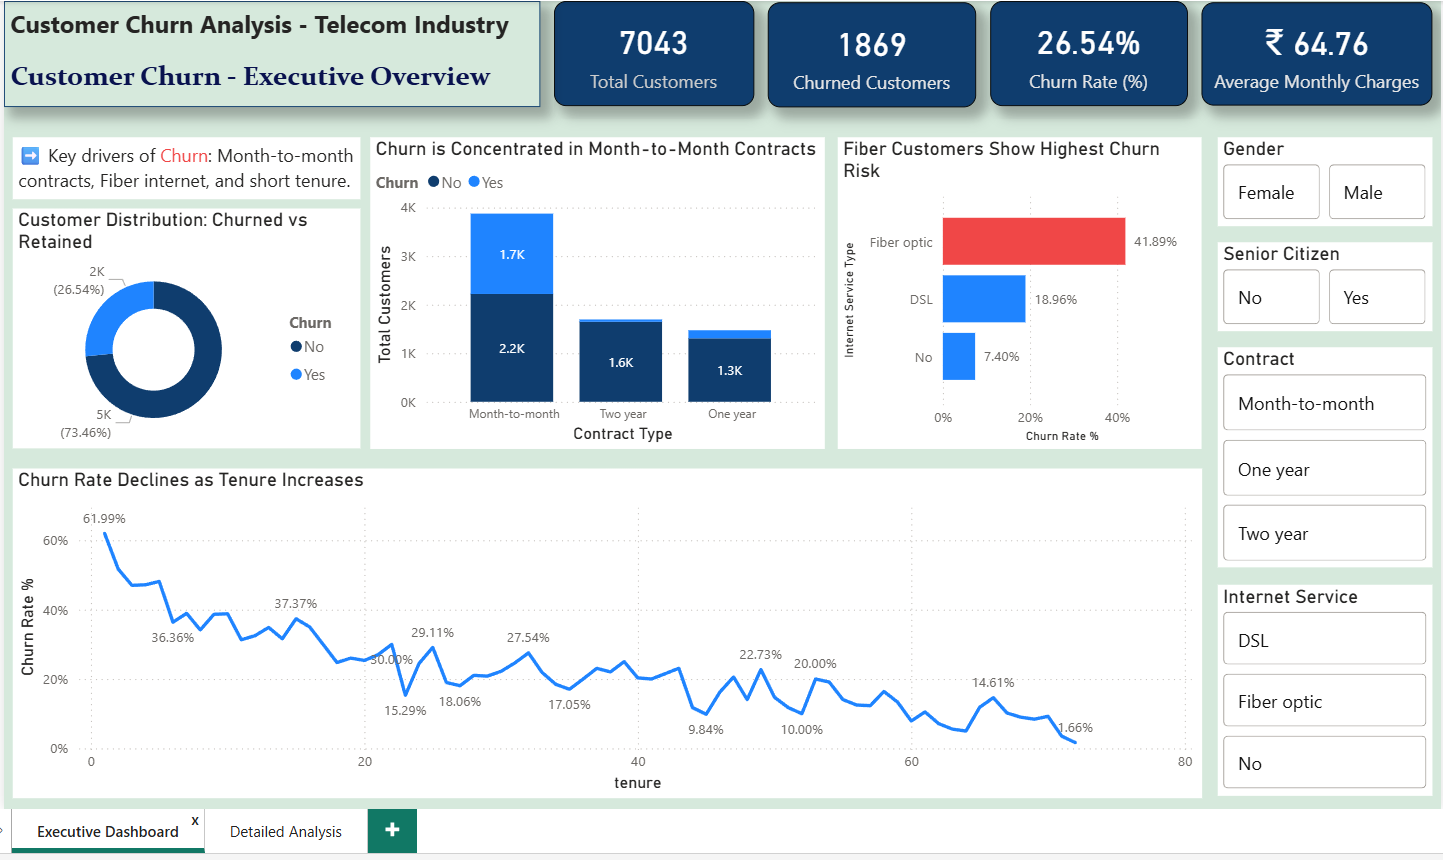

Layout of this report page (visuals, bound fields, positions):
{"tool":"powerbi","page":{"name":"Executive Dashboard","canvas":[1280,720],"ordinal":0},"visuals":[{"type":"card","fields":{"Values":["Telco.Total Customers"]},"box":[489.6,0,178.1,93.5],"z":0},{"type":"card","fields":{"Values":["Telco.Churned Customers"]},"box":[679.9,1.1,185.9,93.5],"z":1000},{"type":"card","fields":{"Values":["Telco.Churn Rate %"]},"box":[878.1,0,175.9,93.5],"z":2000},{"type":"card","fields":{"Values":["Telco.Avg Monthly Charges"]},"box":[1066.4,1.1,205.9,92.4],"z":3000},{"type":"columnChart","title":"Churn is Concentrated in Month-to-Month Contracts","fields":{"Category":["Telco.Contract"],"Y":["Telco.Total Customers"],"Series":["Telco.Churn"]},"box":[326.4,121.5,404.9,277.3],"z":4000},{"type":"clusteredBarChart","title":"Fiber Customers Show Highest Churn Risk","fields":{"Category":["Telco.InternetService"],"Y":["Telco.Churn Rate %"]},"box":[742.3,121.5,323.9,277.3],"z":5000},{"type":"textbox","box":[0,0,477.3,94.5],"z":6000},{"type":"advancedSlicerVisual","title":"Gender","fields":{"Values":["Telco.gender"]},"box":[1080.9,121.3,191.5,79],"z":7000},{"type":"advancedSlicerVisual","title":"Senior Citizen","fields":{"Values":["Telco.SeniorCitizen"]},"box":[1080.9,214.8,191.5,79],"z":8000},{"type":"advancedSlicerVisual","title":"Contract","fields":{"Values":["Telco.Contract"]},"box":[1080.9,308.4,191.5,195.9],"z":9000},{"type":"advancedSlicerVisual","title":"Internet Service","fields":{"Values":["Telco.InternetService"]},"box":[1080.9,519.9,191.5,188.1],"z":10000},{"type":"donutChart","title":"Customer Distribution: Churned vs Retained","fields":{"Category":["Telco.Churn"],"Y":["Telco.Total Customers"]},"box":[7.4,185.3,309.2,213.5],"z":11000},{"type":"lineChart","title":"Churn Rate Declines as Tenure Increases","fields":{"Category":["Telco.tenure"],"Y":["Telco.Churn Rate %"]},"box":[7.4,416,1058.9,293.3],"z":12000},{"type":"textbox","box":[7.4,121.5,309.2,55.2],"z":13000}]}

Visuals, with their boxes on the page's 1280x720 design canvas (x1, y1, x2, y2). These are canvas units, not pixel positions in the 1443x860 screenshot, which may show the page scaled, cropped or inside an application window:
card - Telco.Total Customers: x1=490 y1=0 x2=668 y2=94
card - Telco.Churned Customers: x1=680 y1=1 x2=866 y2=95
card - Telco.Churn Rate %: x1=878 y1=0 x2=1054 y2=94
card - Telco.Avg Monthly Charges: x1=1066 y1=1 x2=1272 y2=94
"Churn is Concentrated in Month-to-Month Contracts" columnChart: x1=326 y1=122 x2=731 y2=399
"Fiber Customers Show Highest Churn Risk" clusteredBarChart: x1=742 y1=122 x2=1066 y2=399
textbox: x1=0 y1=0 x2=477 y2=94
"Gender" advancedSlicerVisual: x1=1081 y1=121 x2=1272 y2=200
"Senior Citizen" advancedSlicerVisual: x1=1081 y1=215 x2=1272 y2=294
"Contract" advancedSlicerVisual: x1=1081 y1=308 x2=1272 y2=504
"Internet Service" advancedSlicerVisual: x1=1081 y1=520 x2=1272 y2=708
"Customer Distribution: Churned vs Retained" donutChart: x1=7 y1=185 x2=317 y2=399
"Churn Rate Declines as Tenure Increases" lineChart: x1=7 y1=416 x2=1066 y2=709
textbox: x1=7 y1=122 x2=317 y2=177
